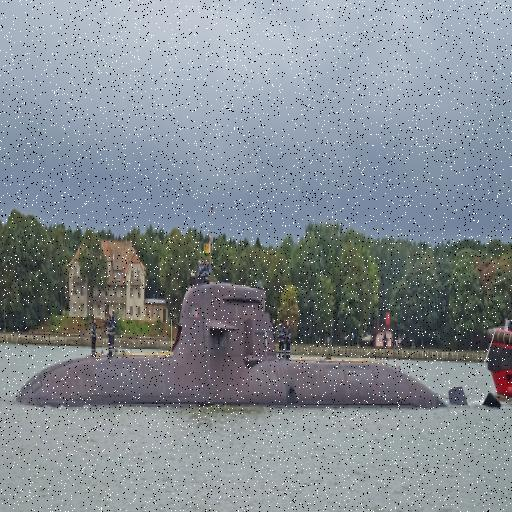submarine: (17, 274, 460, 415)
